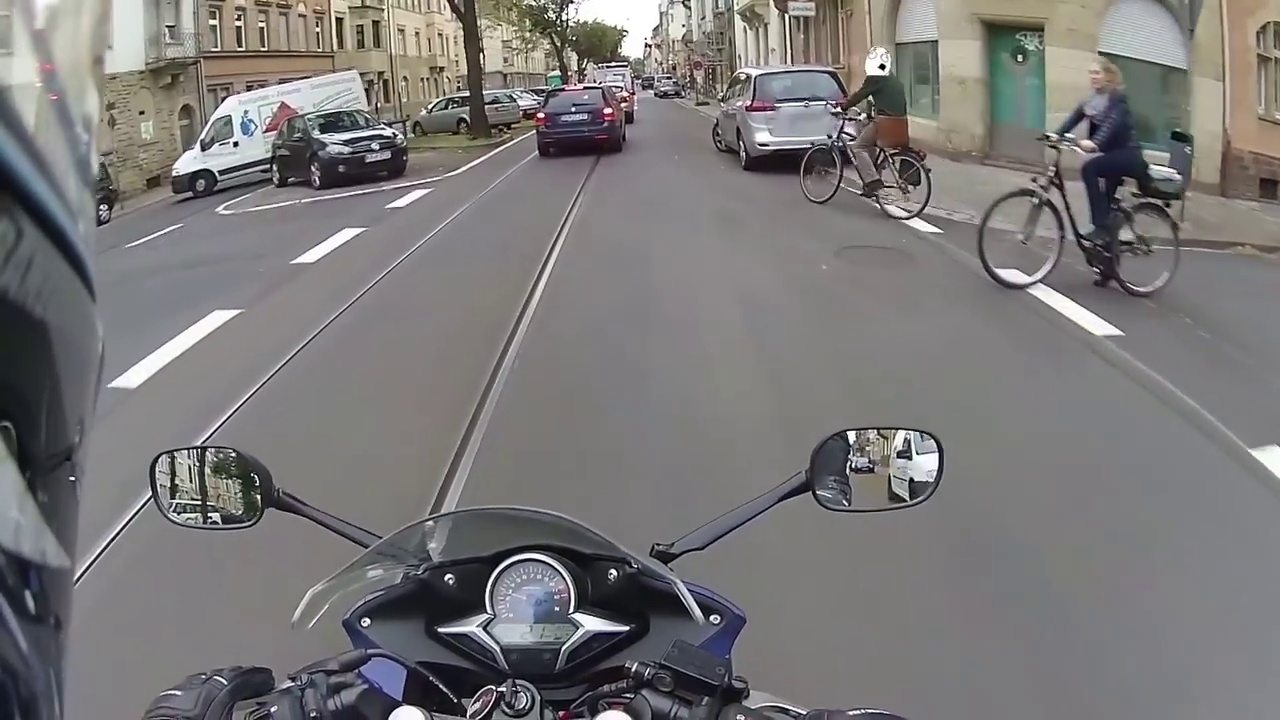cyclist_side: (972, 40, 1193, 307), (794, 37, 934, 227)
